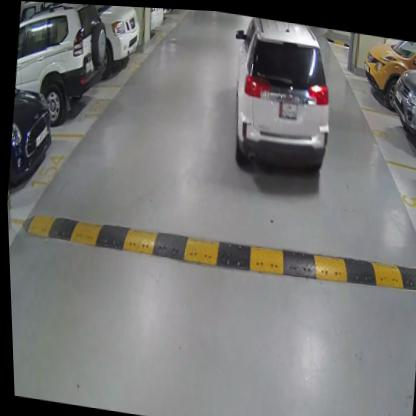np: (276, 95, 299, 118)
